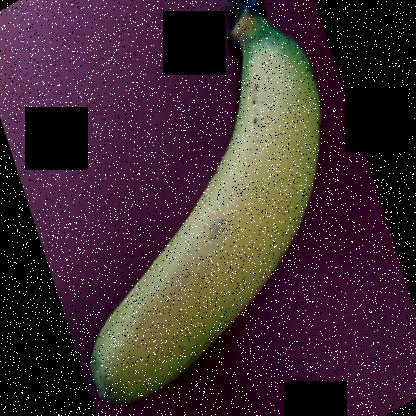freshripe: (48, 49, 342, 415)
